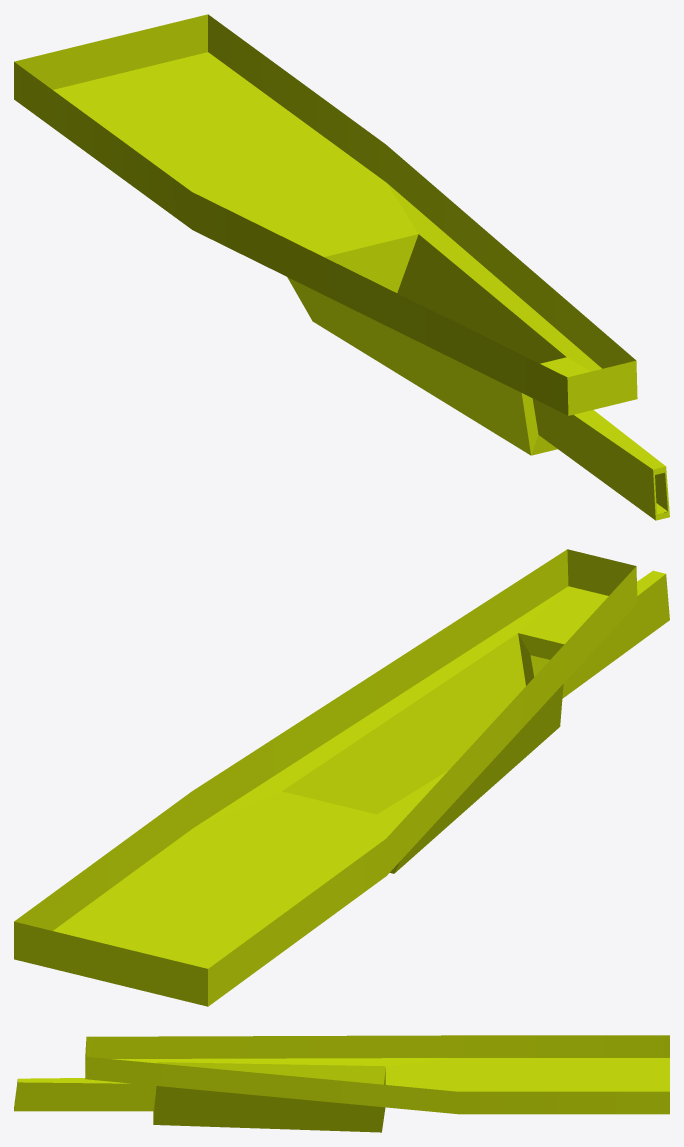
The model's file is Laser.fbx.
3 renders of one model, top to bottom at view 1: azimuth 30°, elevation 25°; view 2: azimuth 150°, elevation 25°; view 3: azimuth 270°, elevation 25°, orthographic. The views are drawn at different scales.
Parts seen in each view (by area): view 1: LaserSystem; view 2: LaserSystem; view 3: LaserSystem.
Part boxes in pixels (x1=…): LaserSystem: x1=14, y1=14, x2=669, y2=520; LaserSystem: x1=14, y1=549, x2=669, y2=1006; LaserSystem: x1=14, y1=1035, x2=669, y2=1132.
Bounding box in the file's own units: 5.65 × 3.46 × 27.83.
